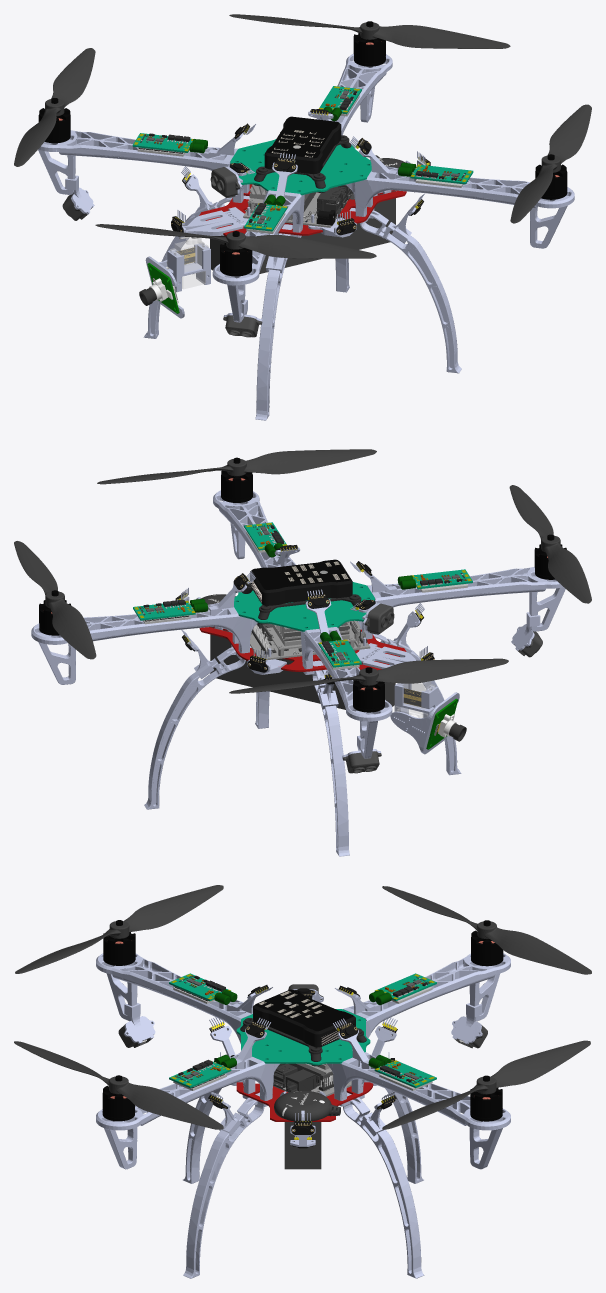
Rendered from InteractiveBKestrelView_optimized.glb.
3 renders of one model, top to bottom at view 1: azimuth 30°, elevation 25°; view 2: azimuth 150°, elevation 25°; view 3: azimuth 270°, elevation 25°, orthographic.
Parts seen in each view (by area): view 1: Part 2, Part 13, Part 46, Part 36, Part 5, Part 6, Part 28, Part 73, Part, Part 49, Part 40, Part 11 (+5 smaller); view 2: Part 2, Part 13, Part 46, Part 5, Part 36, Part 11, Part 6, Part 73, Part 28, Part, Part 40, Part 37 (+4 smaller); view 3: Part 2, Part 13, Part 46, Part 5, Part 28, Part 6, Part 36, Part, Part 40, Part 37, Part 73, Part 35 (+6 smaller).
Part boxes in pixels (x1,y1,x2,y2): Part 2: (38,53,574,420); Part 13: (14,14,591,258); Part 46: (132,86,473,231); Part 36: (210,191,395,273); Part 5: (171,109,430,235); Part 6: (267,116,338,158); Part 28: (38,21,567,276); Part 73: (62,167,262,337); Part: (199,184,406,236); Part 49: (168,237,208,288); Part 40: (137,89,464,233); Part 11: (243,184,351,227); Part 2: (31,490,565,856); Part 13: (14,449,591,693); Part 46: (133,522,472,667); Part 5: (175,545,434,679); Part 36: (210,627,395,709); Part 11: (250,620,370,659); Part 6: (252,559,350,589); Part 73: (342,603,542,773); Part 28: (39,457,566,712); Part: (199,626,406,671); Part 40: (143,526,467,669); Part 37: (190,542,415,641); Part 2: (96,953,510,1278); Part 13: (14,885,591,1129); Part 46: (169,973,436,1088); Part 5: (208,985,397,1146); Part 28: (102,920,503,1121); Part 6: (255,989,353,1031); Part 36: (284,1122,321,1169); Part: (236,1082,373,1121); Part 40: (173,978,432,1090); Part 37: (214,989,391,1068); Part 73: (118,984,487,1048); Part 35: (209,987,397,1137).
Size of the model in its own units: 24.95 by 10.89 by 24.95.
